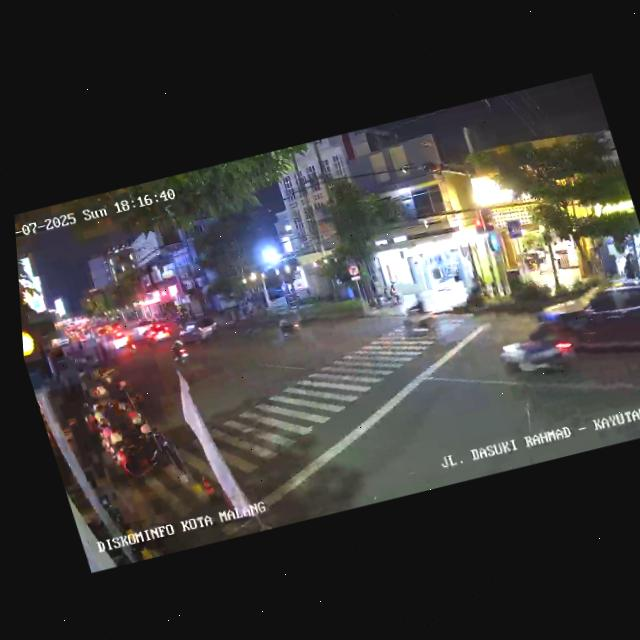car: (535, 272, 640, 383), (173, 312, 223, 348), (141, 320, 174, 346), (100, 329, 135, 352)
motorcycle: (488, 305, 584, 392), (393, 290, 443, 346), (272, 307, 305, 343), (167, 335, 193, 367), (122, 334, 141, 355)
person: (619, 253, 637, 280), (634, 246, 640, 275)
